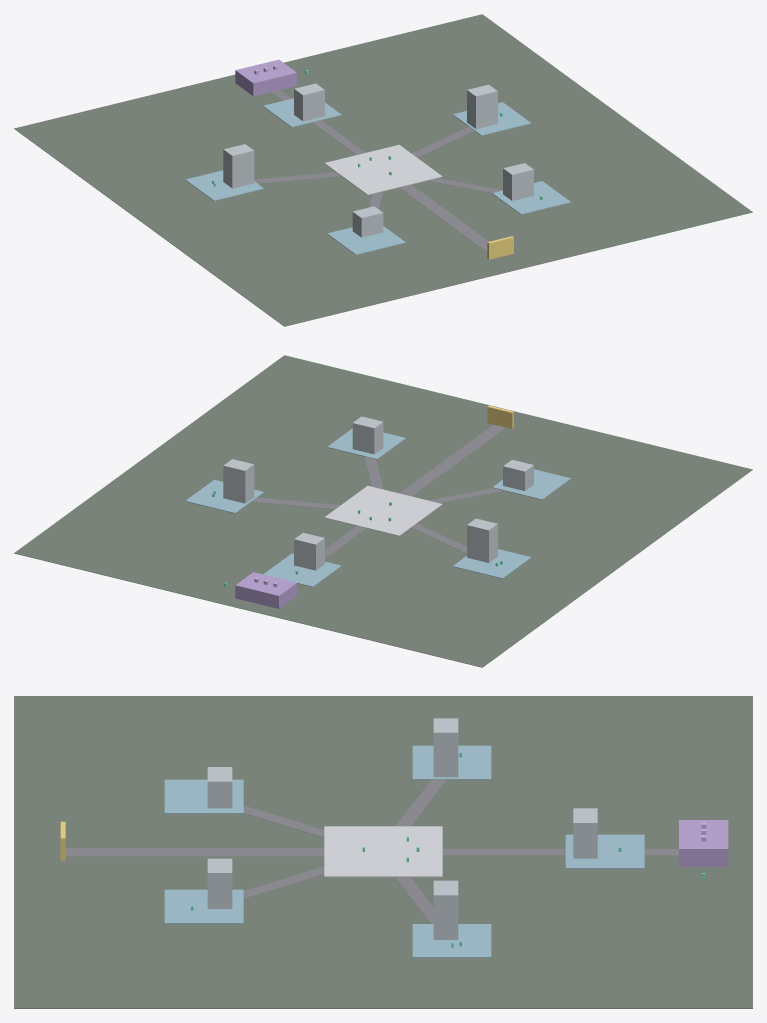
File: s17-curable-blockchain-dao.glb
The picture shows the model from 3 angles, top to bottom: view 1: azimuth 30°, elevation 25°; view 2: azimuth 150°, elevation 25°; view 3: azimuth 270°, elevation 25°; orthographic projection. The views are drawn at different scales.
Parts seen in each view (by area): view 1: ground:s17-curable-blockchain-dao, plaza:s17-curable-blockchain-dao/floor, council:s17-curable-blockchain-dao/chamber, able-blockchain-dao/research-synthesis-lab/hall, s17-curable-blockchain-dao/operations-deck/hall, one:s17-curable-blockchain-dao/charter-hall/pad, curable-blockchain-dao/progress-observatory/pad, rable-blockchain-dao/research-synthesis-lab/pad, road:s17-curable-blockchain-dao/gate, :s17-curable-blockchain-dao/proposal-forum/hall, urable-blockchain-dao/progress-observatory/hall, :s17-curable-blockchain-dao/operations-deck/pad (+3 smaller); view 2: ground:s17-curable-blockchain-dao, plaza:s17-curable-blockchain-dao/floor, council:s17-curable-blockchain-dao/chamber, s17-curable-blockchain-dao/operations-deck/hall, road:s17-curable-blockchain-dao/gate, able-blockchain-dao/research-synthesis-lab/hall, e:s17-curable-blockchain-dao/proposal-forum/pad, rable-blockchain-dao/research-synthesis-lab/pad, :s17-curable-blockchain-dao/operations-deck/pad, urable-blockchain-dao/progress-observatory/hall, :s17-curable-blockchain-dao/proposal-forum/hall, one:s17-curable-blockchain-dao/charter-hall/pad (+2 smaller); view 3: ground:s17-curable-blockchain-dao, plaza:s17-curable-blockchain-dao/floor, road:s17-curable-blockchain-dao/gate, :s17-curable-blockchain-dao/operations-deck/pad, curable-blockchain-dao/progress-observatory/pad, council:s17-curable-blockchain-dao/chamber, e:s17-curable-blockchain-dao/proposal-forum/pad, one:s17-curable-blockchain-dao/charter-hall/pad, rable-blockchain-dao/research-synthesis-lab/pad, able-blockchain-dao/research-synthesis-lab/hall, s17-curable-blockchain-dao/operations-deck/hall, urable-blockchain-dao/progress-observatory/hall (+7 smaller).
Boxes of the visible parts, <box> form: ground:s17-curable-blockchain-dao: <box>14,14,752,326</box>; plaza:s17-curable-blockchain-dao/floor: <box>324,144,442,195</box>; council:s17-curable-blockchain-dao/chamber: <box>235,59,296,96</box>; able-blockchain-dao/research-synthesis-lab/hall: <box>223,144,254,188</box>; s17-curable-blockchain-dao/operations-deck/hall: <box>467,84,497,128</box>; one:s17-curable-blockchain-dao/charter-hall/pad: <box>327,226,405,254</box>; curable-blockchain-dao/progress-observatory/pad: <box>492,181,571,214</box>; rable-blockchain-dao/research-synthesis-lab/pad: <box>185,170,263,201</box>; road:s17-curable-blockchain-dao/gate: <box>399,184,488,251</box>; :s17-curable-blockchain-dao/proposal-forum/hall: <box>294,83,324,121</box>; urable-blockchain-dao/progress-observatory/hall: <box>503,163,533,200</box>; :s17-curable-blockchain-dao/operations-deck/pad: <box>452,102,531,135</box>; ground:s17-curable-blockchain-dao: <box>14,355,752,667</box>; plaza:s17-curable-blockchain-dao/floor: <box>324,485,442,536</box>; council:s17-curable-blockchain-dao/chamber: <box>235,572,296,608</box>; s17-curable-blockchain-dao/operations-deck/hall: <box>223,459,254,503</box>; road:s17-curable-blockchain-dao/gate: <box>399,424,505,496</box>; able-blockchain-dao/research-synthesis-lab/hall: <box>467,518,497,562</box>; e:s17-curable-blockchain-dao/proposal-forum/pad: <box>263,553,341,587</box>; rable-blockchain-dao/research-synthesis-lab/pad: <box>452,549,531,578</box>; :s17-curable-blockchain-dao/operations-deck/pad: <box>185,480,263,513</box>; urable-blockchain-dao/progress-observatory/hall: <box>352,416,383,454</box>; :s17-curable-blockchain-dao/proposal-forum/hall: <box>294,532,324,570</box>; one:s17-curable-blockchain-dao/charter-hall/pad: <box>492,469,571,499</box>; ground:s17-curable-blockchain-dao: <box>14,696,752,1008</box>; plaza:s17-curable-blockchain-dao/floor: <box>324,826,442,877</box>; road:s17-curable-blockchain-dao/gate: <box>65,848,324,856</box>; :s17-curable-blockchain-dao/operations-deck/pad: <box>412,924,491,957</box>; curable-blockchain-dao/progress-observatory/pad: <box>164,889,243,923</box>; council:s17-curable-blockchain-dao/chamber: <box>679,820,728,866</box>; e:s17-curable-blockchain-dao/proposal-forum/pad: <box>565,834,644,868</box>; one:s17-curable-blockchain-dao/charter-hall/pad: <box>164,779,243,813</box>; rable-blockchain-dao/research-synthesis-lab/pad: <box>412,745,491,779</box>; able-blockchain-dao/research-synthesis-lab/hall: <box>433,718,458,777</box>; s17-curable-blockchain-dao/operations-deck/hall: <box>433,880,458,939</box>; urable-blockchain-dao/progress-observatory/hall: <box>207,858,232,908</box>.
Size of the model in its own units: 300 by 20.6 by 300.
